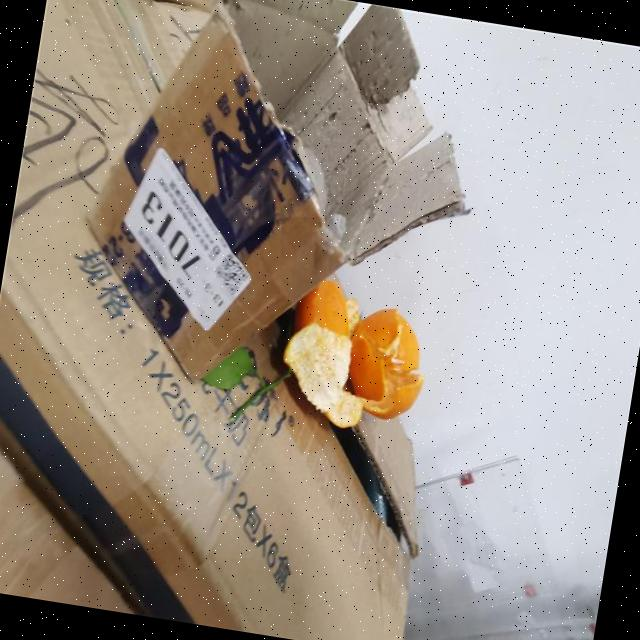orange-peel: (273, 272, 437, 440), (338, 300, 433, 424)
